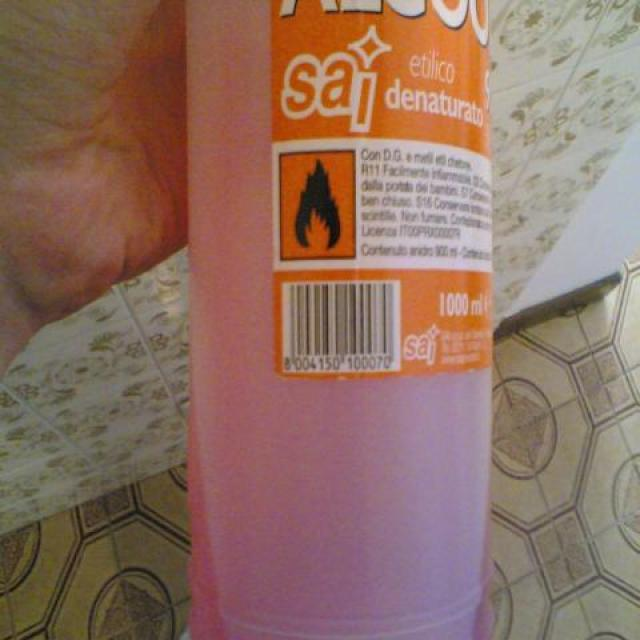Barcode: (276, 278, 404, 374)
